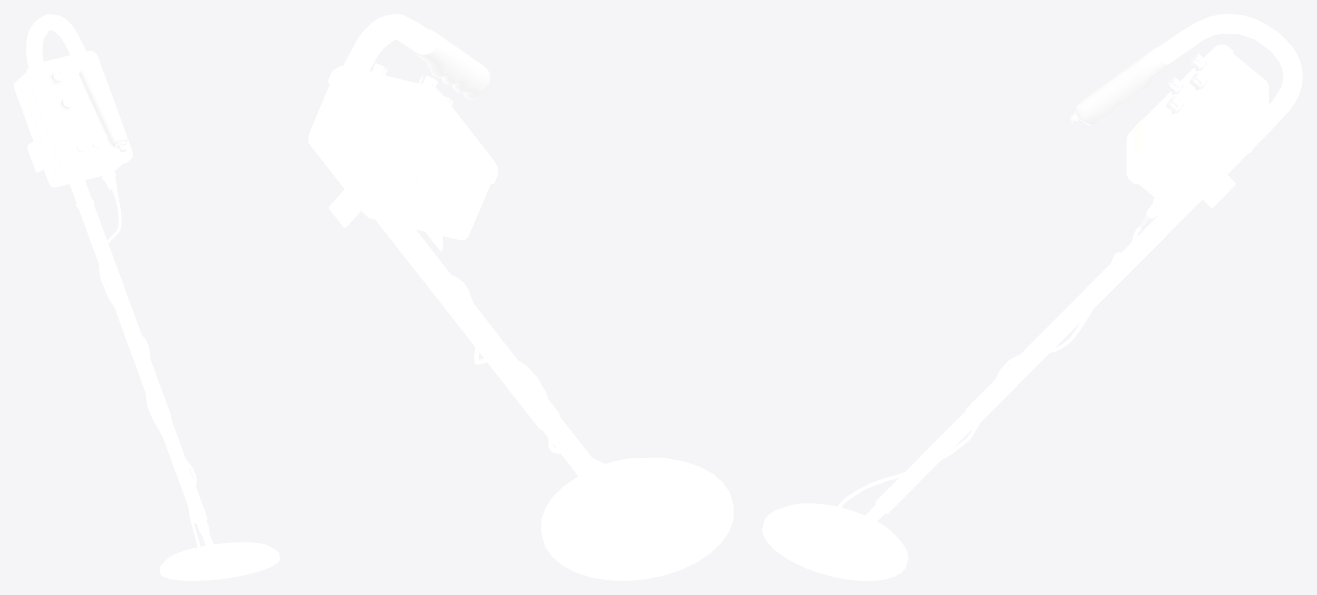
Rendered from metal_detector.glb.
3 views of the same model, side by side, from view 1: azimuth 30°, elevation 25°; view 2: azimuth 150°, elevation 25°; view 3: azimuth 270°, elevation 25° (orthographic). The views are drawn at different scales.
Parts seen in each view (by area): view 1: metal_detector; view 2: metal_detector; view 3: metal_detector.
Part boxes in pixels (x1=…): metal_detector: x1=14, y1=14, x2=279, y2=580; metal_detector: x1=308, y1=14, x2=733, y2=580; metal_detector: x1=762, y1=14, x2=1302, y2=580.
Size of the model in its own units: 0.2379 by 0.9617 by 0.8611.
Materials: 1 (1 with a texture image).
